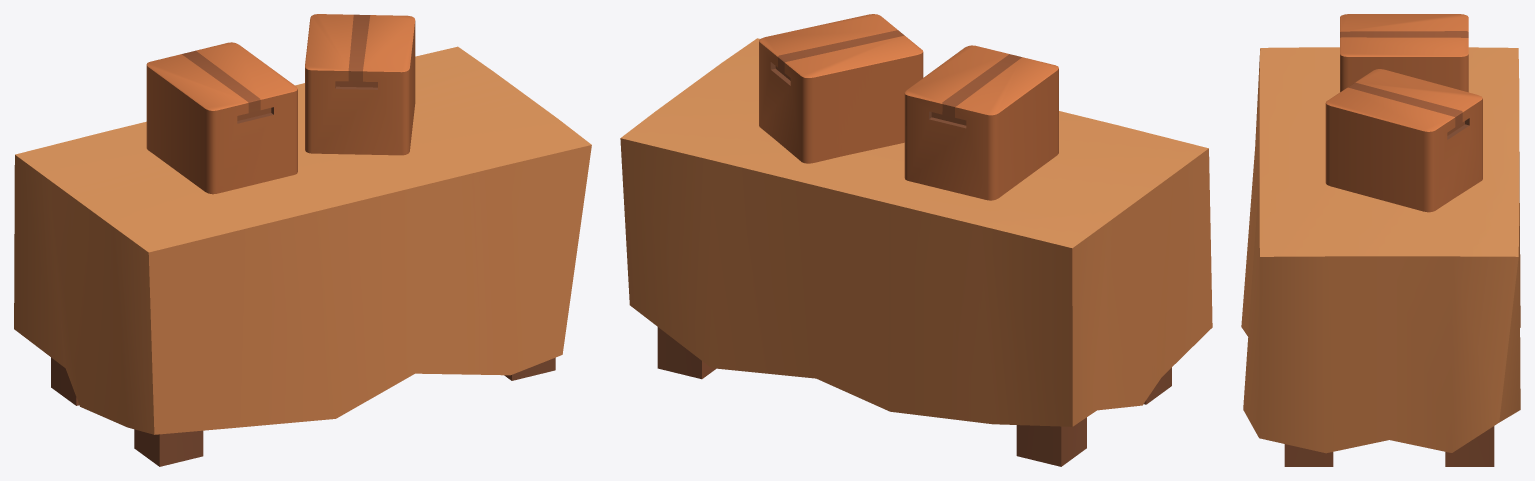
The model's file is closed_desk.fbx.
3 renders of one model, left to right at view 1: azimuth 30°, elevation 25°; view 2: azimuth 150°, elevation 25°; view 3: azimuth 270°, elevation 25°, orthographic. The views are drawn at different scales.
Visible parts, largest first — view 1: Cube.021; view 2: Cube.021; view 3: Cube.021.
Part boxes in pixels (bbox=[...]): Cube.021: bbox=[14, 14, 591, 466]; Cube.021: bbox=[620, 14, 1212, 466]; Cube.021: bbox=[1241, 14, 1520, 466].
Bounding box in the file's own units: 113 × 76.26 × 63.44.
1 material, 1 textured.
